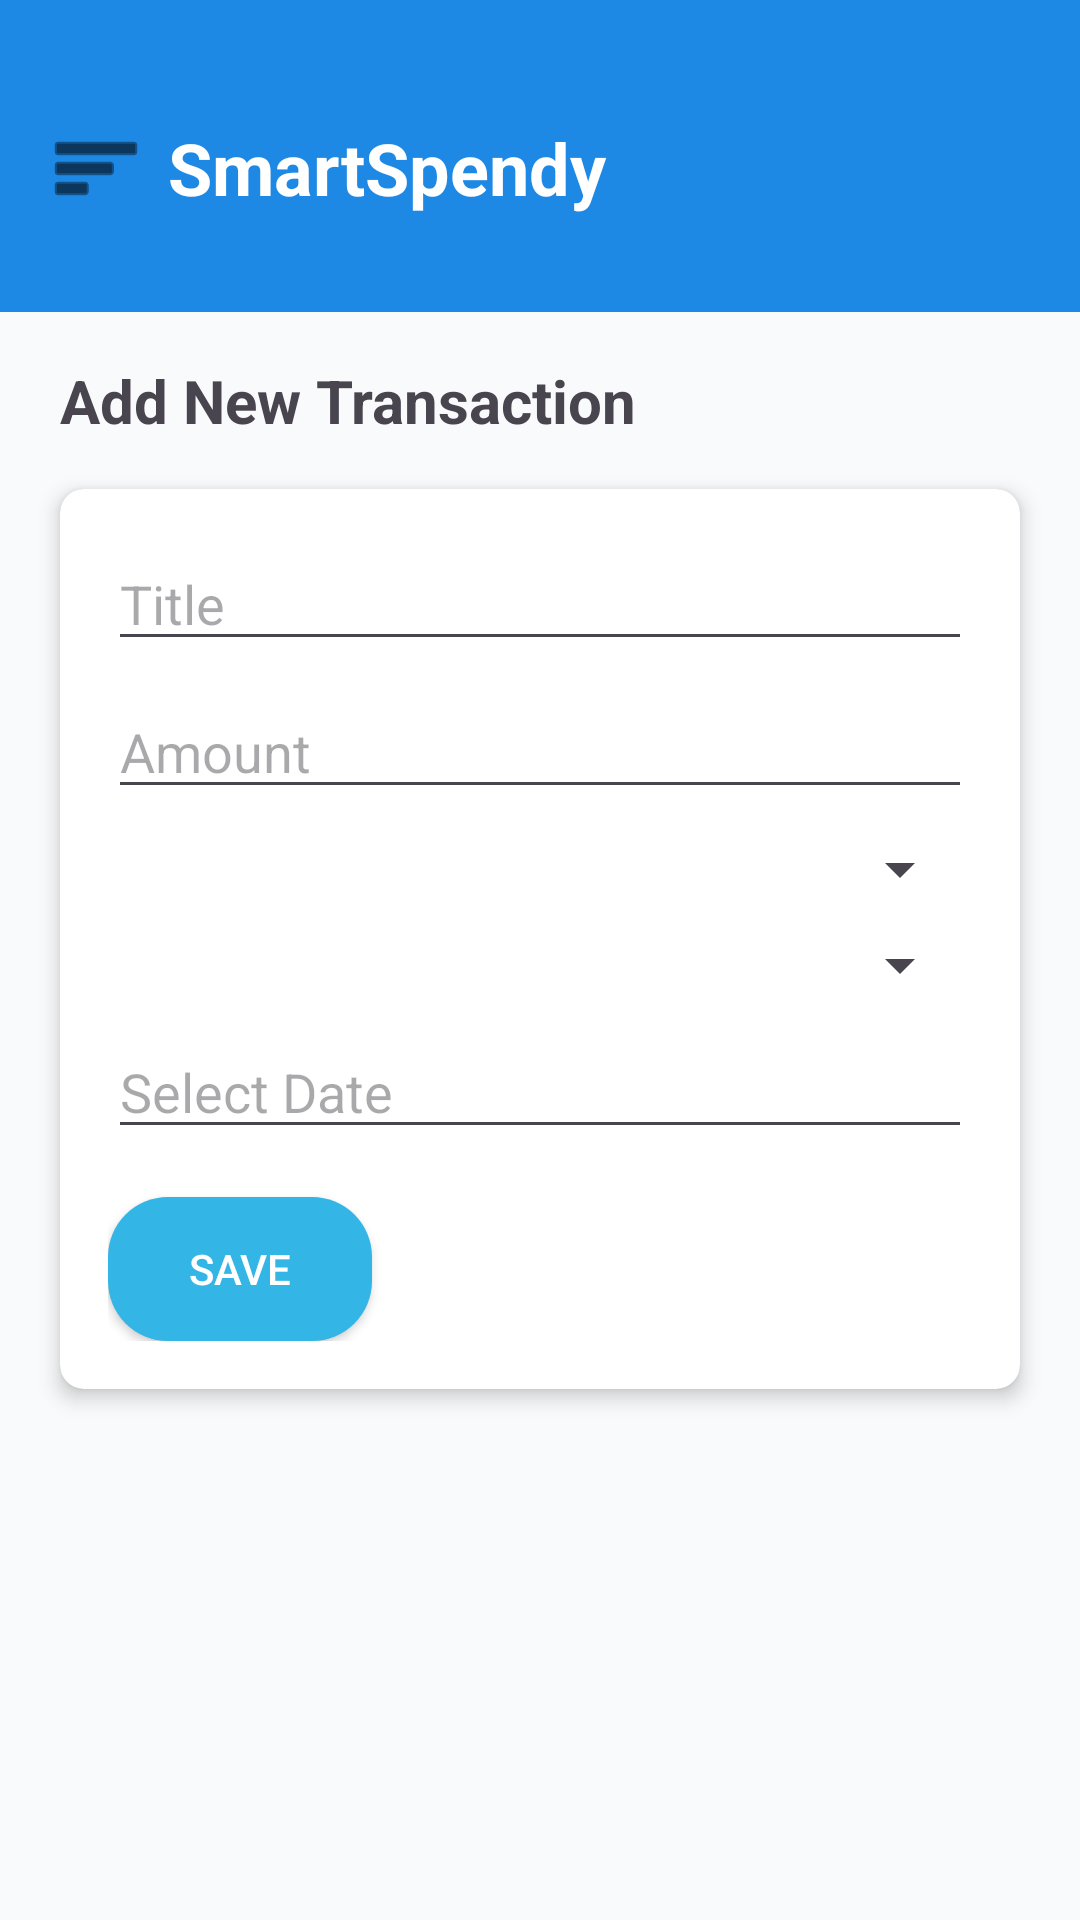

Screen size 1080×1920. Icon name, then its center in pixels as (x=x, y=y):
Menu: (x=96, y=168)
